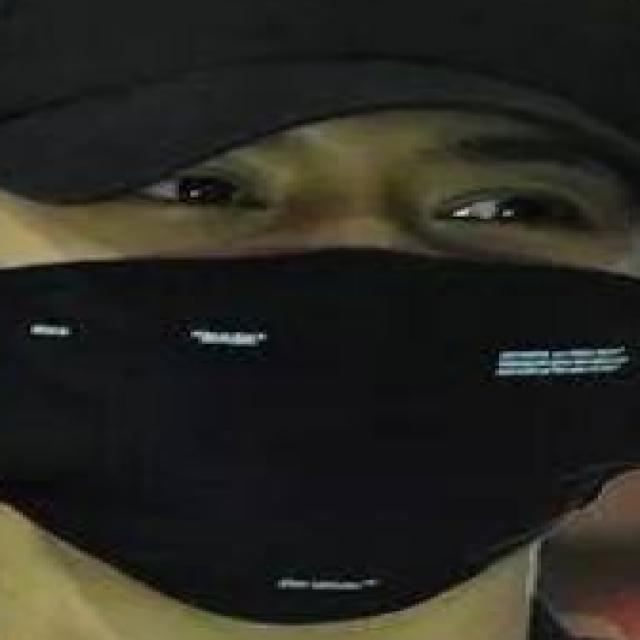mask: (3, 195, 640, 638)
